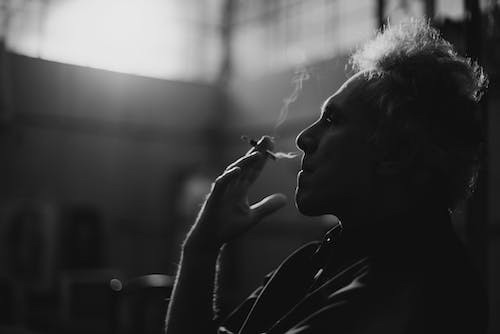cigarette: (248, 138, 278, 161)
